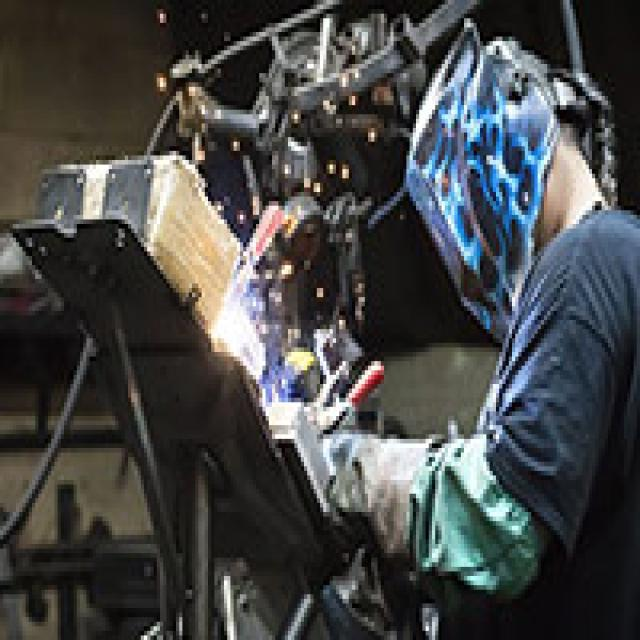with_helmet: (406, 19, 560, 339)
